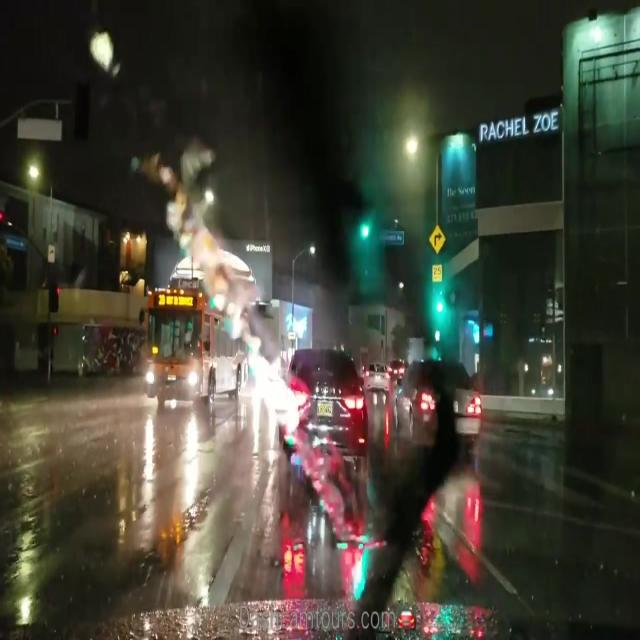Car: (275, 347, 368, 469), (392, 361, 481, 450), (363, 358, 390, 393)
